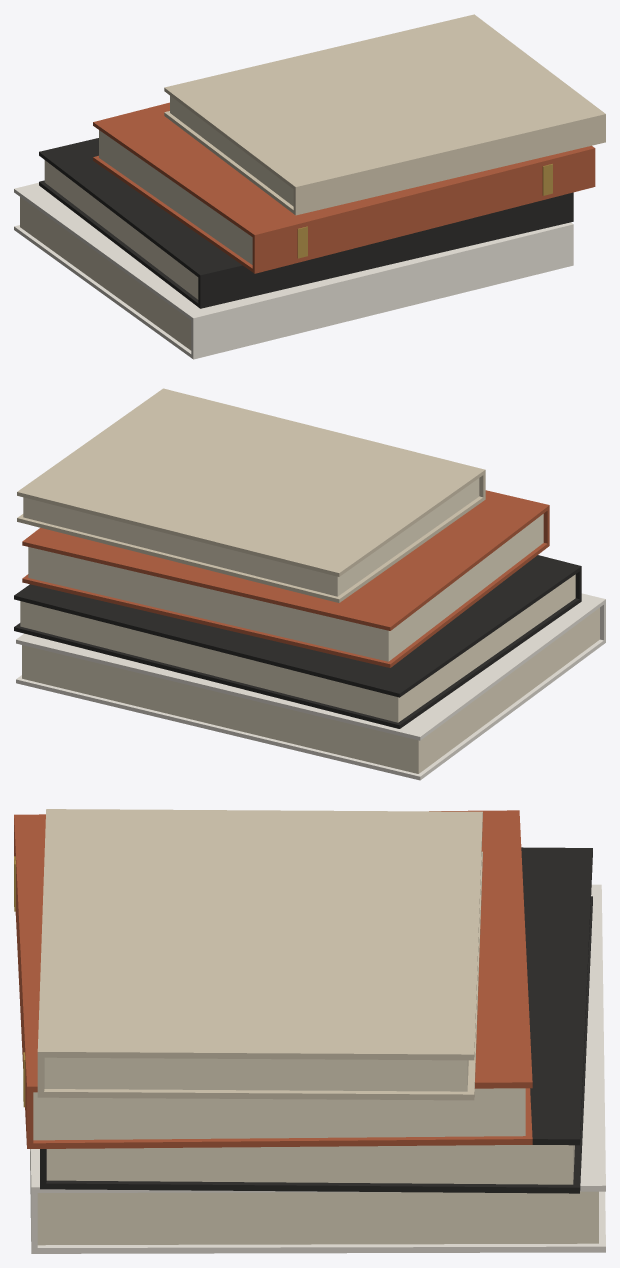
3 views of the same model, one above another, from view 1: azimuth 30°, elevation 25°; view 2: azimuth 150°, elevation 25°; view 3: azimuth 270°, elevation 25° (orthographic). The views are drawn at different scales.
Visible parts, largest first — view 1: book.003, book.002, book, book.001; view 2: book.003, book.002, book.001, book; view 3: book.003, book.002, book.001, book.
Part boxes in pixels (<box>): book.003: <box>164,14,605,215</box>; book.002: <box>93,102,595,273</box>; book: <box>14,182,573,359</box>; book.001: <box>39,138,573,308</box>; book.003: <box>17,388,485,602</box>; book.002: <box>22,490,549,667</box>; book.001: <box>14,555,581,728</box>; book: <box>16,593,605,780</box>; book.003: <box>37,809,482,1100</box>; book.002: <box>14,810,532,1148</box>; book.001: <box>40,847,592,1193</box>; book: <box>30,884,605,1253</box>.
Size of the model in its own units: 0.3421 by 0.11 by 0.2576.
